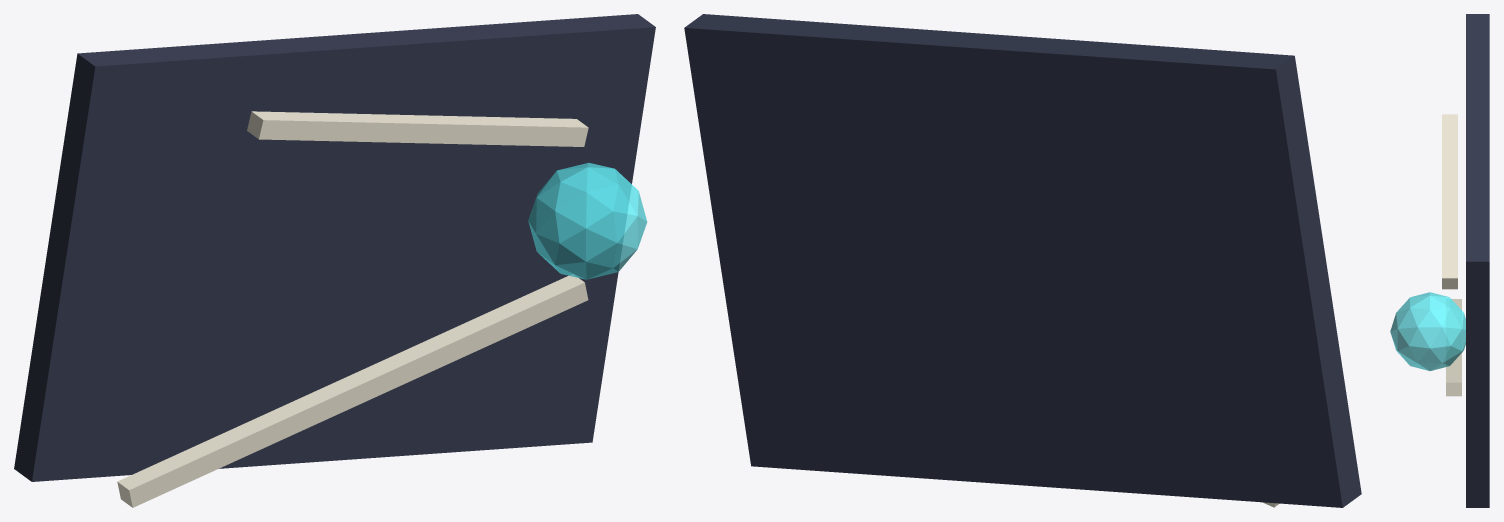
The model's file is 02_world_prop_polish.glb.
The picture shows the model from 3 angles, left to right: view 1: azimuth 30°, elevation 25°; view 2: azimuth 150°, elevation 25°; view 3: azimuth 270°, elevation 25°; orthographic projection. The views are drawn at different scales.
Parts seen in each view (by area): view 1: object_overlay_plate, edge_wear_a, glow_socket, edge_wear_b; view 2: object_overlay_plate; view 3: object_overlay_plate, glow_socket, edge_wear_b, edge_wear_a.
Boxes of the visible parts, box(x1,y1,x2,y2) form: object_overlay_plate: box(14, 14, 655, 481); edge_wear_a: box(117, 274, 588, 507); glow_socket: box(528, 162, 647, 279); edge_wear_b: box(247, 111, 588, 146); object_overlay_plate: box(684, 14, 1361, 507); object_overlay_plate: box(1466, 14, 1489, 507); glow_socket: box(1390, 292, 1465, 370); edge_wear_b: box(1442, 114, 1457, 289); edge_wear_a: box(1446, 299, 1461, 396).
Size of the model in its own units: 1.21 by 0.9199 by 0.25.
